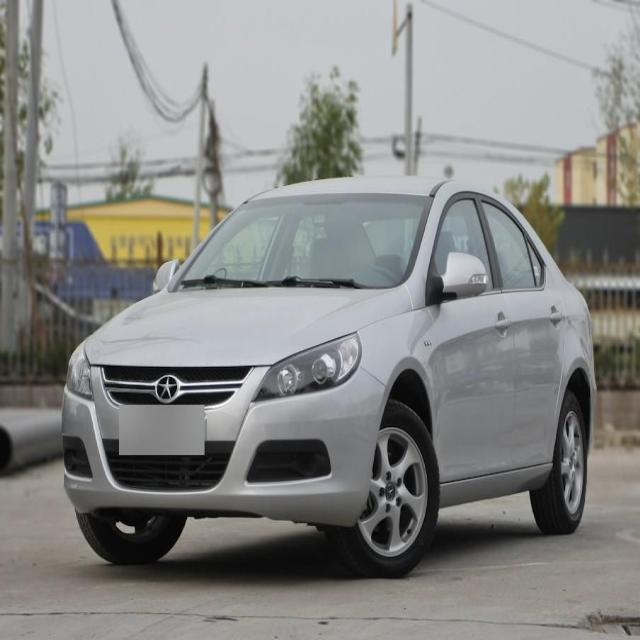door: (482, 199, 566, 492)
front_bumper: (59, 364, 386, 528)
front_glass: (173, 190, 434, 291)
front_left_side_door: (426, 180, 511, 486)
front_left_side_light: (251, 326, 364, 408)
front_left_side_mirror: (434, 247, 488, 298)
front_right_side_light: (64, 338, 102, 404)
front_right_side_mirror: (151, 257, 180, 290)
wheel: (332, 401, 440, 575), (530, 386, 590, 528), (79, 518, 186, 566)
